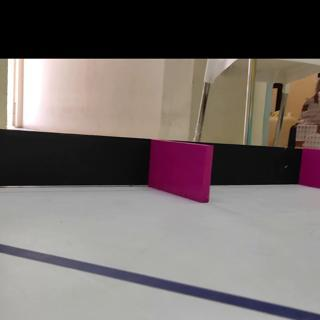xparking: (152, 143, 211, 197), (300, 149, 320, 188)
